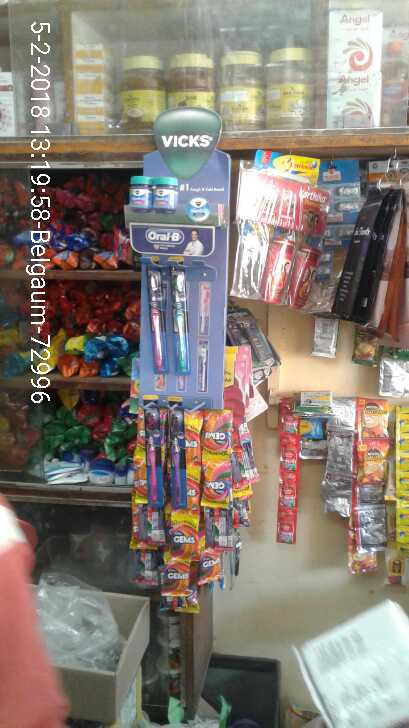pharmacy: (143, 270, 205, 382), (116, 158, 220, 218)
